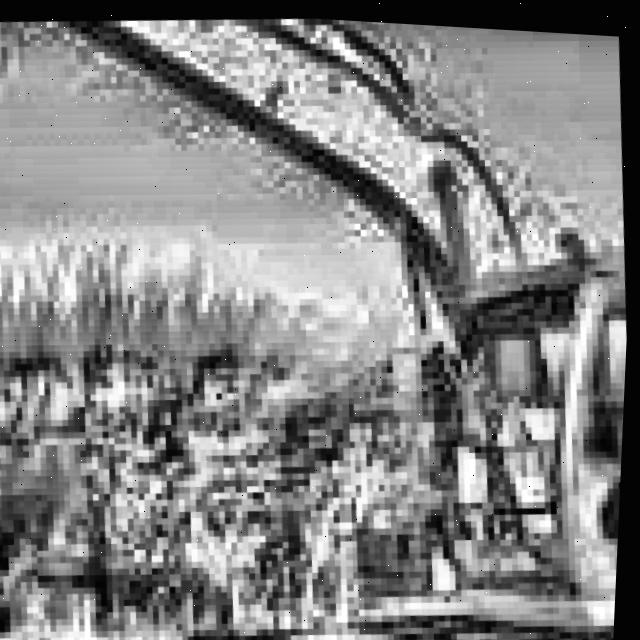excavator: (291, 216, 633, 640)
